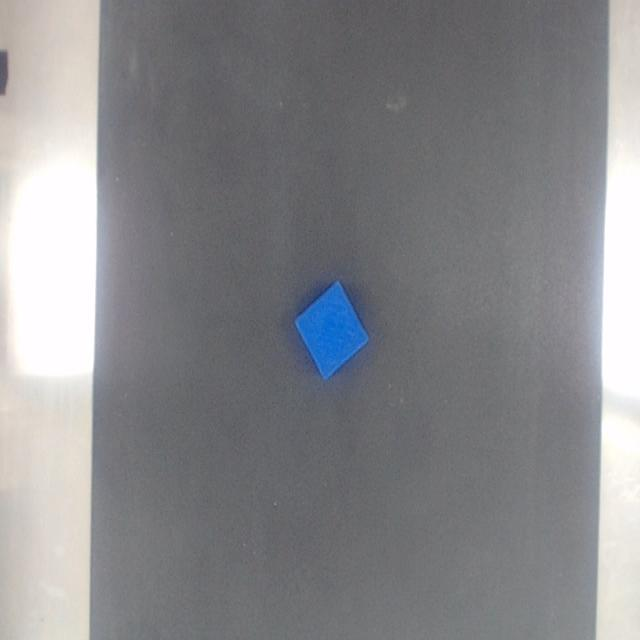Azul: (294, 281, 368, 380)
